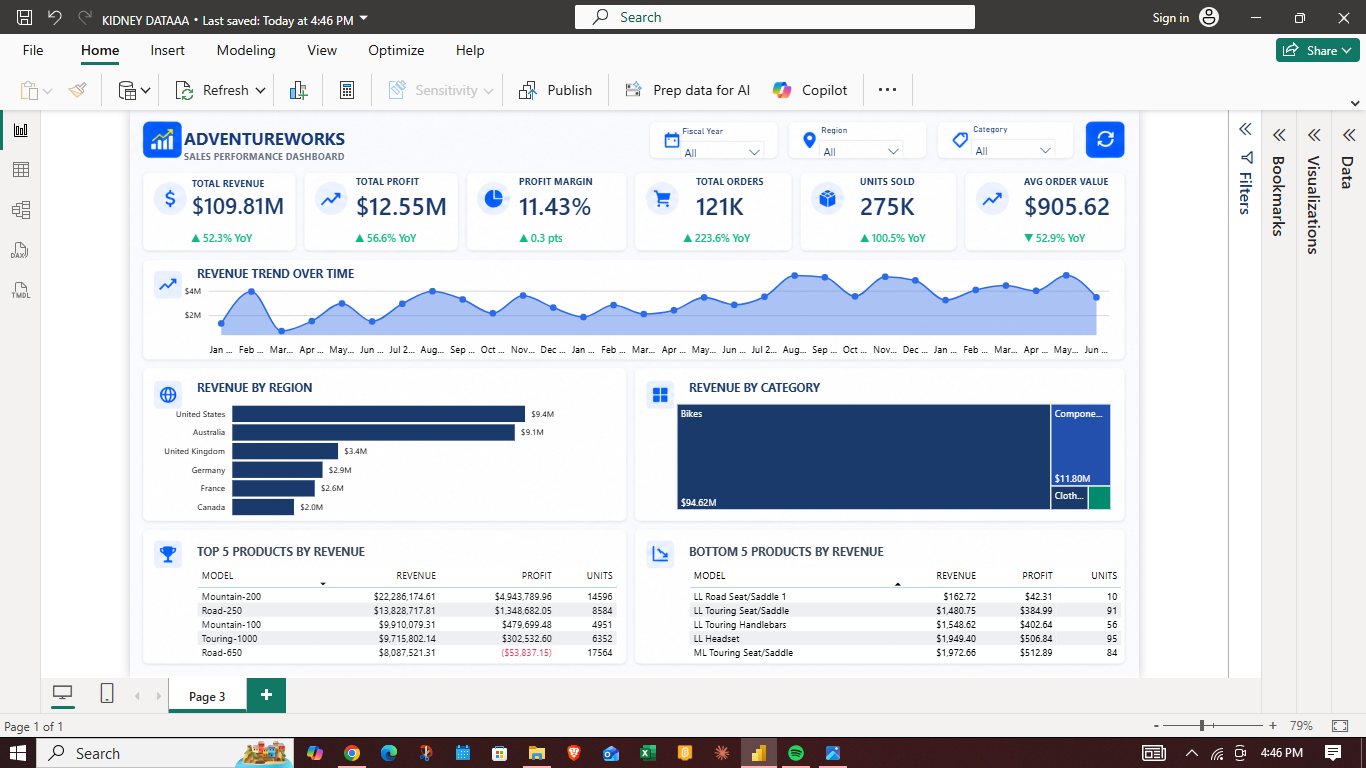

What the dashboard file says about the page in this screenshot:
{"tool":"powerbi","page":{"name":"Page 3","canvas":[1280,720],"ordinal":0},"visuals":[{"type":"textbox","box":[64,16,336,64],"z":0},{"type":"cardVisual","fields":{"Data":["Sales.Total Revenue"]},"box":[48,64,192,96],"z":1000},{"type":"cardVisual","fields":{"Data":["Sales.TOTAL PROFIT"]},"box":[256,64,192,96],"z":2000},{"type":"cardVisual","fields":{"Data":["Sales.PROFIT MARGIN"]},"box":[464,64,208,96],"z":3000},{"type":"cardVisual","fields":{"Data":["Sales.TOTAL ORDERS"]},"box":[688,63,176,96],"z":4000},{"type":"cardVisual","fields":{"Data":["Sales.UNIT SOLD"]},"box":[896,63,144,96],"z":5000},{"type":"cardVisual","fields":{"Data":["Sales.AVERAGE ORDER VALUE"]},"box":[1104,64,176,96],"z":6000},{"type":"slicer","fields":{"Values":["Date.FISCAL YEAR"]},"box":[687,15,127,45],"z":7000},{"type":"lineChart","fields":{"Category":["Date.Month Year"],"Y":["Sales.TOTAL REVENUE"]},"box":[64,192,1184,128],"z":8000},{"type":"textbox","box":[80,192,224,32],"z":9000},{"type":"textbox","box":[80,336,192,32],"z":10000},{"type":"textbox","box":[704,336,192,32],"z":11000},{"type":"textbox","box":[80,544,288,32],"z":12000},{"type":"textbox","box":[704,544,320,32],"z":13000},{"type":"tableEx","fields":{"Values":["Product.Model","Sales.TOTAL REVENUE","Sales.TOTAL PROFIT","Sales.UNITS SOLD"]},"box":[704,576,560,128],"z":14000},{"type":"barChart","fields":{"Category":["Customer.Country-Region"],"Y":["Sales.TOTAL REVENUE"]},"box":[32,352,512,176],"z":15000},{"type":"treemap","fields":{"Details":["Product.Category"],"Values":["Sales.TOTAL REVENUE"]},"box":[688,368,560,144],"z":16000},{"type":"tableEx","fields":{"Values":["Product.Model","Sales.TOTAL REVENUE","Sales.TOTAL PROFIT","Sales.UNITS SOLD"]},"box":[80,576,544,128],"z":17000},{"type":"slicer","fields":{"Values":["Customer.Country-Region"]},"box":[863,14,127,45],"z":18000},{"type":"slicer","fields":{"Values":["Product.Category"]},"box":[1056,13,127,45],"z":19000},{"type":"cardVisual","fields":{"Data":["Sales.Revenuee KPI Text"]},"box":[48,128,192,64],"z":19001},{"type":"cardVisual","fields":{"Data":["Sales.Profitt KPI Text"]},"box":[256,128,192,64],"z":19002},{"type":"cardVisual","fields":{"Data":["Sales.Profittt Margin KPI Text"]},"box":[464,128,192,64],"z":19003},{"type":"cardVisual","fields":{"Data":["Sales.Orderss KPI Text"]},"box":[672,128,192,64],"z":19004},{"type":"cardVisual","fields":{"Data":["Sales.Unitss Sold KPI Text"]},"box":[896,128,192,64],"z":19005},{"type":"actionButton","box":[1216,16,48,48],"z":19007},{"type":"cardVisual","fields":{"Data":["Sales.AOV KPI Text"]},"box":[1104,128,176,64],"z":19008}]}

Visuals, with their boxes on the page's 1280x720 design canvas (x1, y1, x2, y2). These are canvas units, not pixel positions in the 1366x768 screenshot, which may show the page scaled, cropped or inside an application window:
textbox: 64,16,400,80
cardVisual - Sales.Total Revenue: 48,64,240,160
cardVisual - Sales.TOTAL PROFIT: 256,64,448,160
cardVisual - Sales.PROFIT MARGIN: 464,64,672,160
cardVisual - Sales.TOTAL ORDERS: 688,63,864,159
cardVisual - Sales.UNIT SOLD: 896,63,1040,159
cardVisual - Sales.AVERAGE ORDER VALUE: 1104,64,1280,160
slicer - Date.FISCAL YEAR: 687,15,814,60
lineChart - Date.Month Year x Sales.TOTAL REVENUE: 64,192,1248,320
textbox: 80,192,304,224
textbox: 80,336,272,368
textbox: 704,336,896,368
textbox: 80,544,368,576
textbox: 704,544,1024,576
tableEx - Product.Model x Sales.TOTAL REVENUE: 704,576,1264,704
barChart - Customer.Country-Region x Sales.TOTAL REVENUE: 32,352,544,528
treemap - Product.Category x Sales.TOTAL REVENUE: 688,368,1248,512
tableEx - Product.Model x Sales.TOTAL REVENUE: 80,576,624,704
slicer - Customer.Country-Region: 863,14,990,59
slicer - Product.Category: 1056,13,1183,58
cardVisual - Sales.Revenuee KPI Text: 48,128,240,192
cardVisual - Sales.Profitt KPI Text: 256,128,448,192
cardVisual - Sales.Profittt Margin KPI Text: 464,128,656,192
cardVisual - Sales.Orderss KPI Text: 672,128,864,192
cardVisual - Sales.Unitss Sold KPI Text: 896,128,1088,192
actionButton: 1216,16,1264,64
cardVisual - Sales.AOV KPI Text: 1104,128,1280,192
